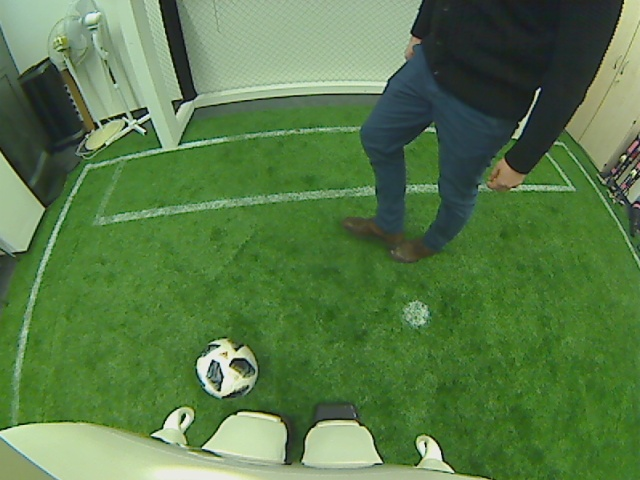ball: (193, 338, 258, 401)
